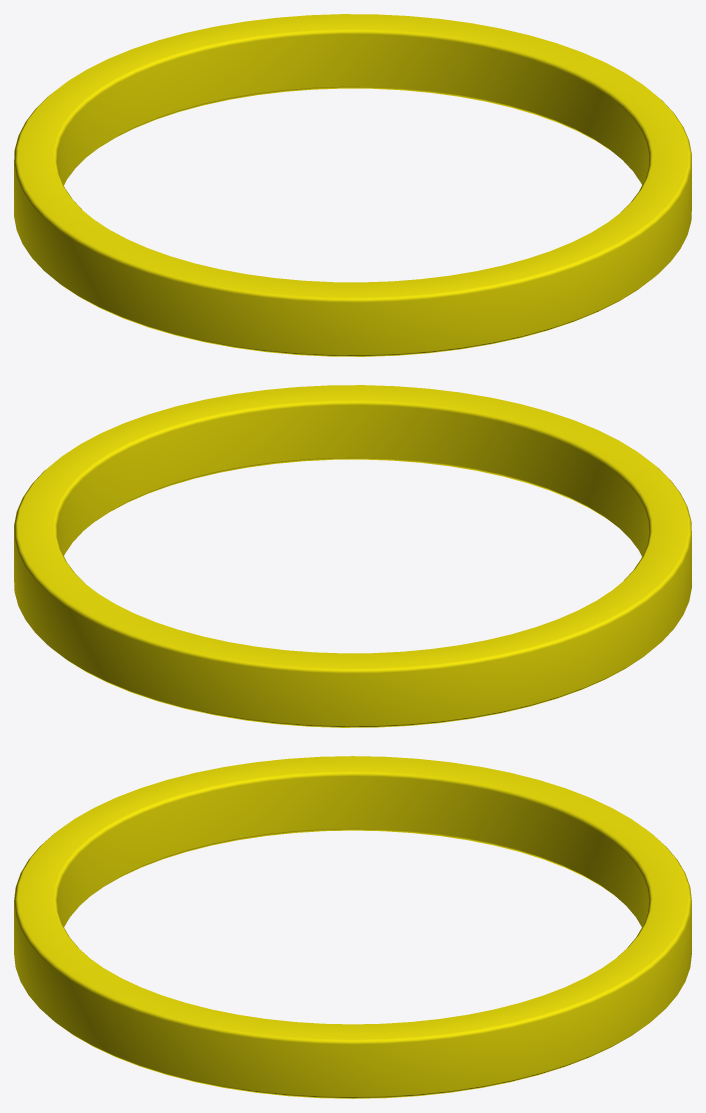
3 renders of one model, top to bottom at view 1: azimuth 30°, elevation 25°; view 2: azimuth 150°, elevation 25°; view 3: azimuth 270°, elevation 25°, orthographic.
Visible parts, largest first — view 1: seal_body; view 2: seal_body; view 3: seal_body.
Boxes of the visible parts, left/top/right/bottom form: seal_body: left=14, top=14, right=691, bottom=356; seal_body: left=14, top=385, right=691, bottom=727; seal_body: left=14, top=756, right=691, bottom=1098.
Bounding box in the file's own units: 0.0982 × 0.00952 × 0.0982.
